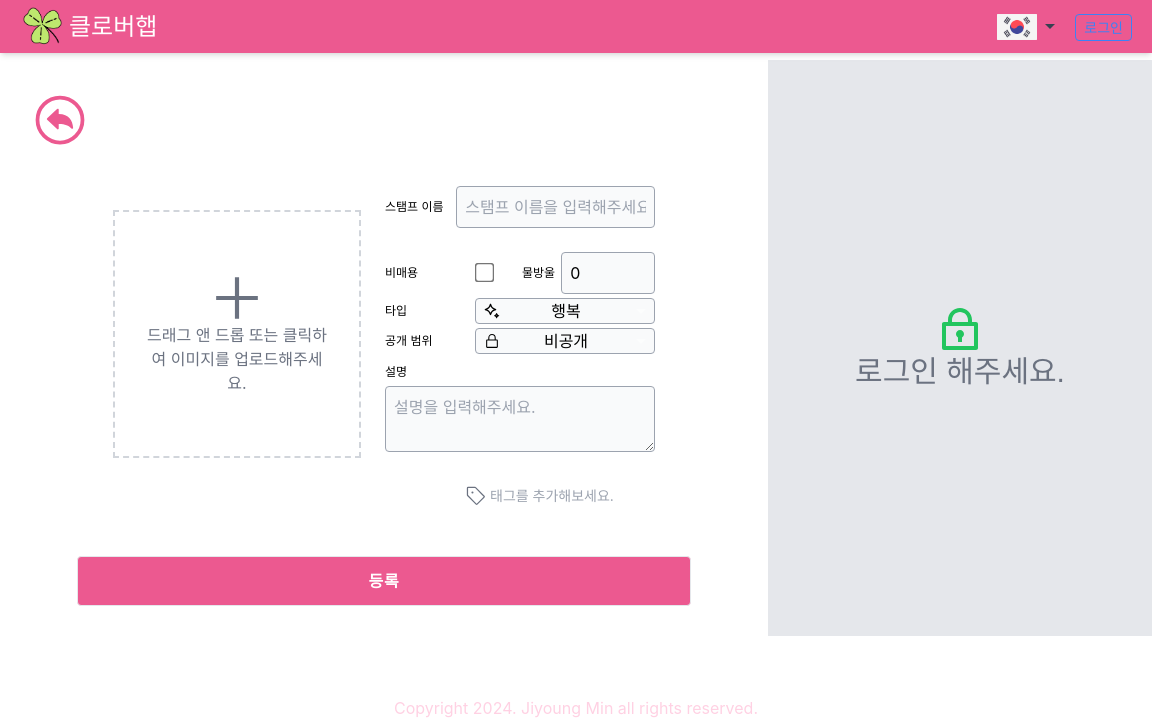
Upload Page › 태그 추가하고 삭제
Expected: the element with id "localeSelect" is shown, [997, 7, 1055, 47]
// 태그 추가 (AddTagsHapp)
Type "test Tag" into the field with id "addTagsHapp" at (565, 496), box [490, 486, 640, 506]
Then press Enter
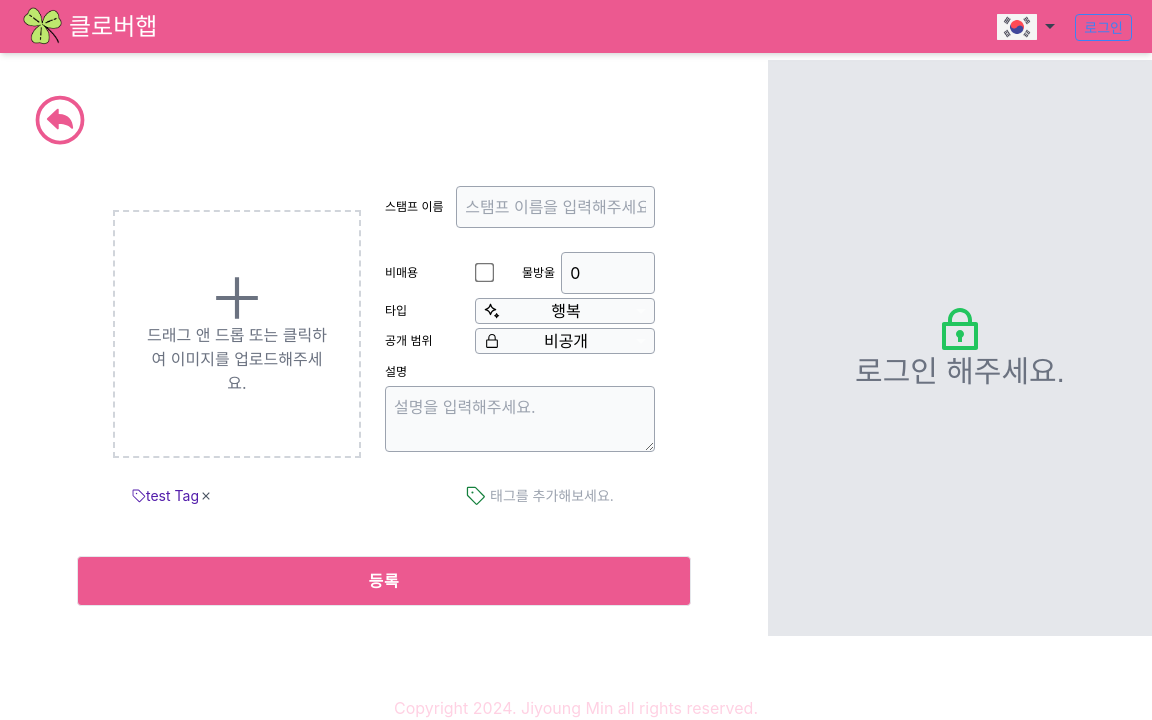
Now the element with id "tag-0" reads "test Tag"
// 태그 삭제 테스트
Click the element with id "tag-0" at (173, 496), box [128, 486, 217, 506]
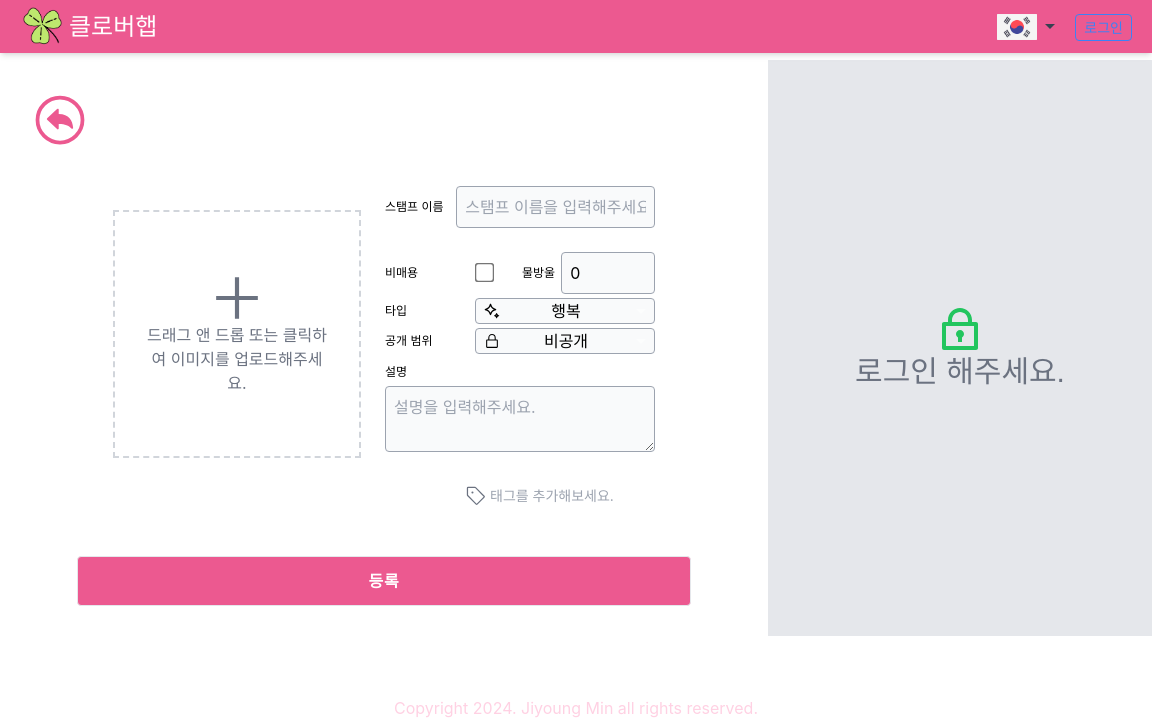
Now the element with id "tag-0" is gone
